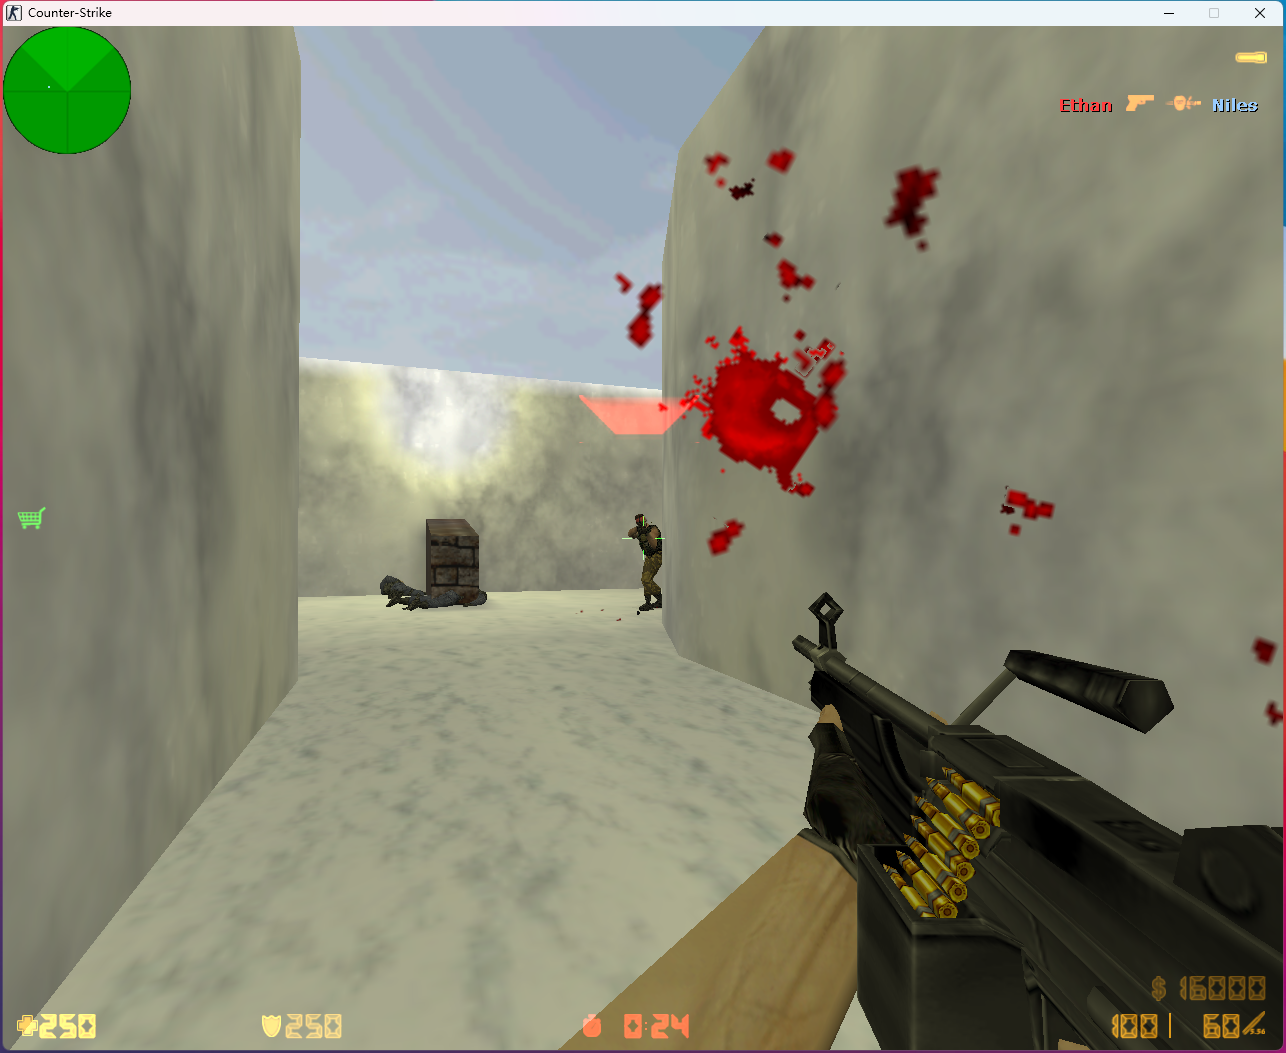T: (626, 510, 664, 612)
dead: (377, 571, 487, 611)
